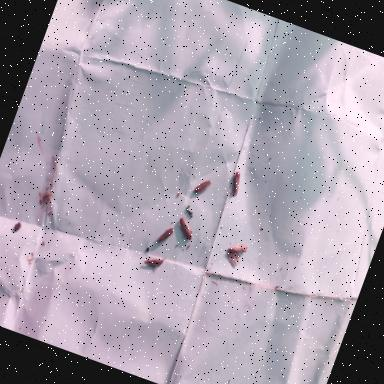pbw: (174, 216, 199, 242), (222, 247, 244, 270), (228, 170, 245, 198), (194, 176, 213, 197), (156, 224, 174, 246), (143, 254, 164, 270)
